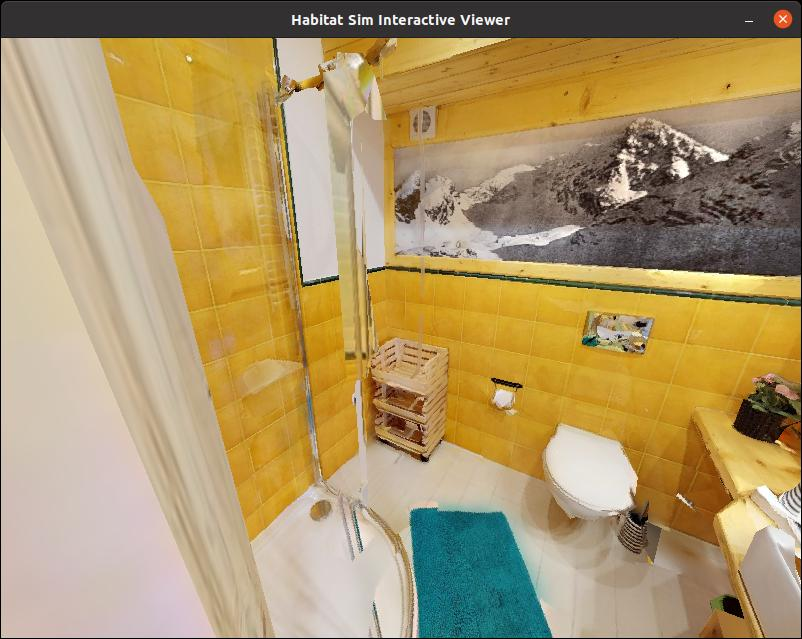shower: (110, 0, 443, 639)
toilet: (527, 413, 649, 551)
